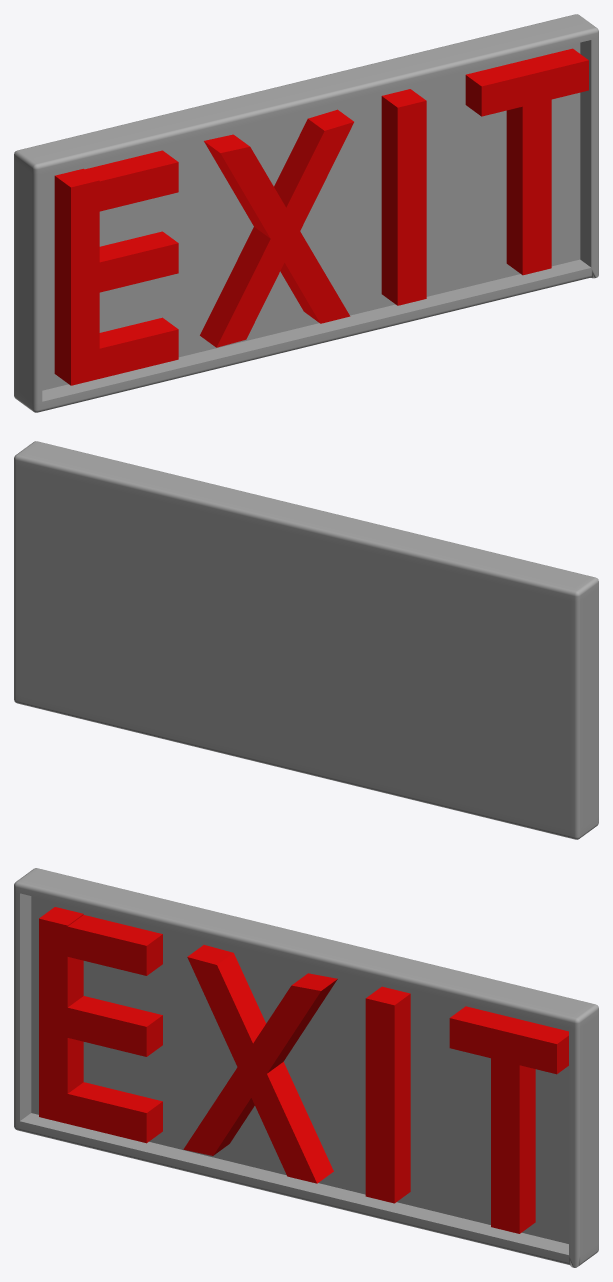
The model's file is Exit Sign.fbx.
3 renders of one model, top to bottom at view 1: azimuth 30°, elevation 25°; view 2: azimuth 150°, elevation 25°; view 3: azimuth 330°, elevation 25°, orthographic.
Parts seen in each view (by area): view 1: polySurface1; view 2: polySurface1; view 3: polySurface1.
Part boxes in pixels (box(x1,y1,x2,y2)): polySurface1: box(14, 14, 598, 412); polySurface1: box(14, 441, 598, 839); polySurface1: box(14, 868, 598, 1267).
Bounding box in the file's own units: 14.62 × 6.13 × 1.24.
